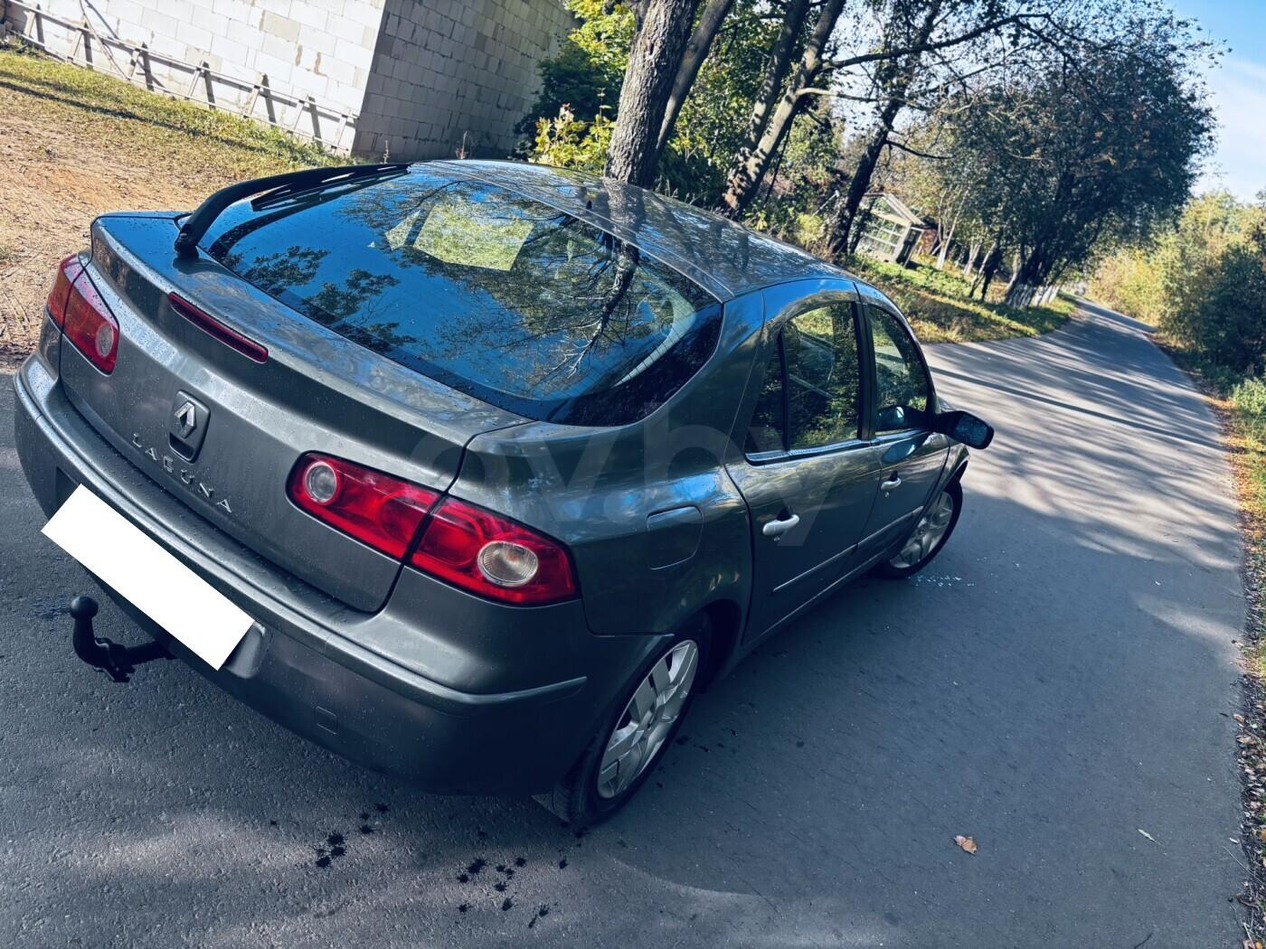Laguna_2005-2007: (6, 132, 982, 826)
